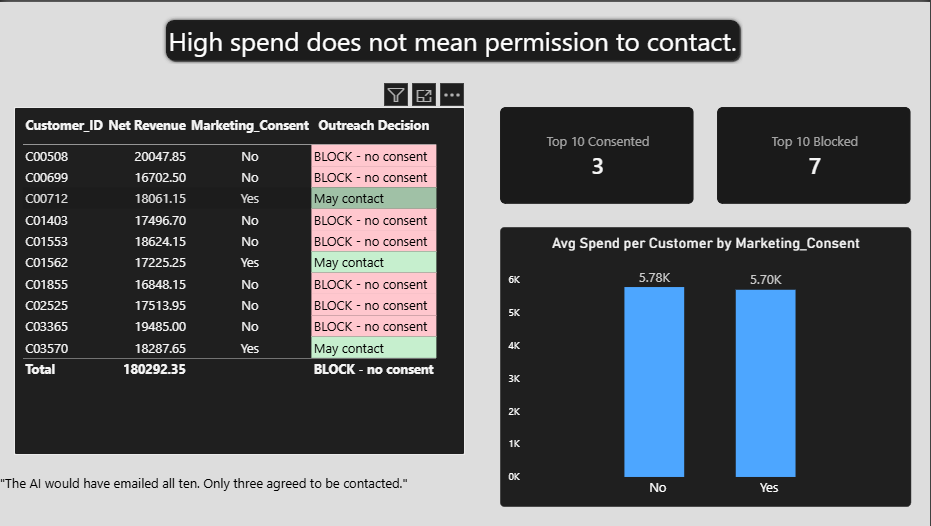

This screenshot's page, from the dashboard's own definition file:
{"tool":"powerbi","page":{"name":"Consent gate (AI-011, AI-015, AI-010)","canvas":[1920,1080],"ordinal":2},"visuals":[{"type":"tableEx","fields":{"Values":["Customers.Customer_ID","Calculated_Measures.Net Revenue","Customers.Marketing_Consent","Customers_Consent_Measures.Outreach Decision"]},"box":[28.9,216.8,931.1,718.5],"z":0},{"type":"cardVisual","fields":{"Data":["Customers_Consent_Measures.Top 10 Blocked"]},"box":[1480.3,216.8,400,200],"z":1000},{"type":"cardVisual","fields":{"Data":["Customers_Consent_Measures.Top 10 Consented"]},"box":[1032.3,216.8,400,200],"z":2000},{"type":"clusteredColumnChart","fields":{"Category":["Customers.Marketing_Consent"],"Y":["Customers_Consent_Measures.Avg Spend per Customer"]},"box":[1032.3,464.5,848.5,578.1],"z":3000},{"type":"textbox","box":[0,974.5,933.2,68.1],"z":4000},{"type":"shape","box":[334.5,28.9,1199.5,99.1],"z":5000}]}

Visuals, with their boxes in screenshot pixels (x1, y1, x2, y2), scaled from the page's 1920x1080 canvas onto the 931x526 screenshot:
tableEx - Customers.Customer_ID x Calculated_Measures.Net Revenue: (14, 106, 466, 456)
cardVisual - Customers_Consent_Measures.Top 10 Blocked: (718, 106, 912, 203)
cardVisual - Customers_Consent_Measures.Top 10 Consented: (501, 106, 695, 203)
clusteredColumnChart - Customers.Marketing_Consent x Customers_Consent_Measures.Avg Spend per Customer: (501, 226, 912, 508)
textbox: (0, 475, 453, 508)
shape: (162, 14, 744, 62)
